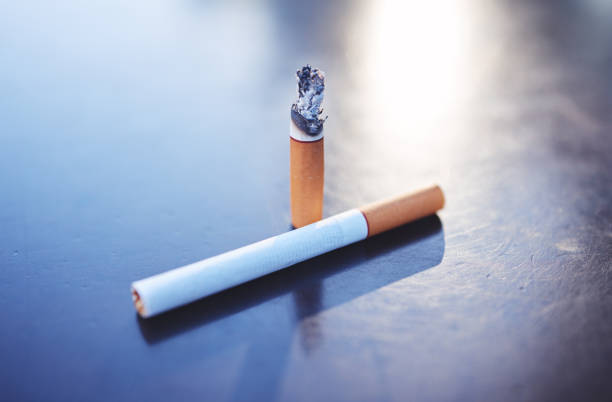cigarette: (124, 187, 450, 319), (287, 67, 325, 227)
